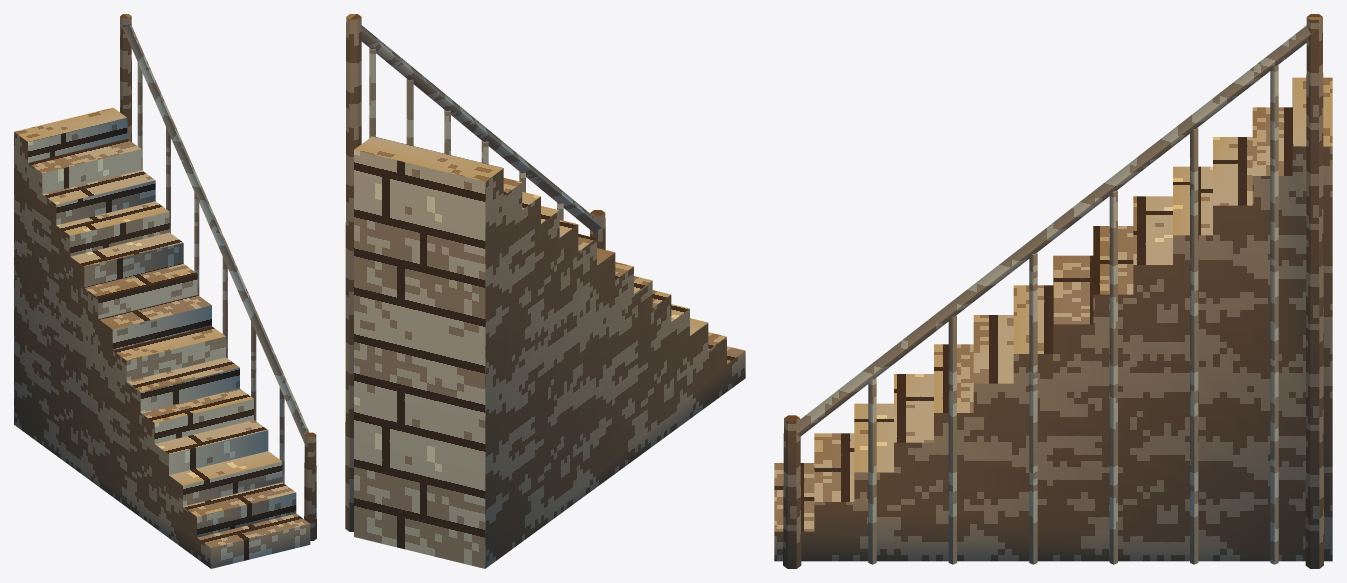
Rendered from wtown.stairs.glb.
The picture shows the model from 3 angles, left to right: view 1: azimuth 30°, elevation 25°; view 2: azimuth 150°, elevation 25°; view 3: azimuth 270°, elevation 25°; orthographic projection. The views are drawn at different scales.
Visible parts, largest first — view 1: kit_treads, kit_rail, kit_spindles, kit_rail_posts; view 2: kit_treads, kit_rail_posts, kit_rail, kit_spindles; view 3: kit_treads, kit_spindles, kit_rail_posts, kit_rail.
Boxes of the visible parts, x1,y1,x2,y2 form: kit_treads: (14,107,310,568); kit_rail: (122,24,309,445); kit_spindles: (137,62,284,483); kit_rail_posts: (120,14,316,540); kit_treads: (354,136,745,568); kit_rail_posts: (345,14,605,531); kit_rail: (360,25,602,232); kit_spindles: (369,48,563,220); kit_treads: (774,77,1332,561); kit_spindles: (868,65,1278,564); kit_rail_posts: (783,14,1323,568); kit_rail: (793,25,1314,436).
Bounding box in the file's own units: 1.22 × 4.1 × 3.78.
Materials: 4 (4 with a texture image).
